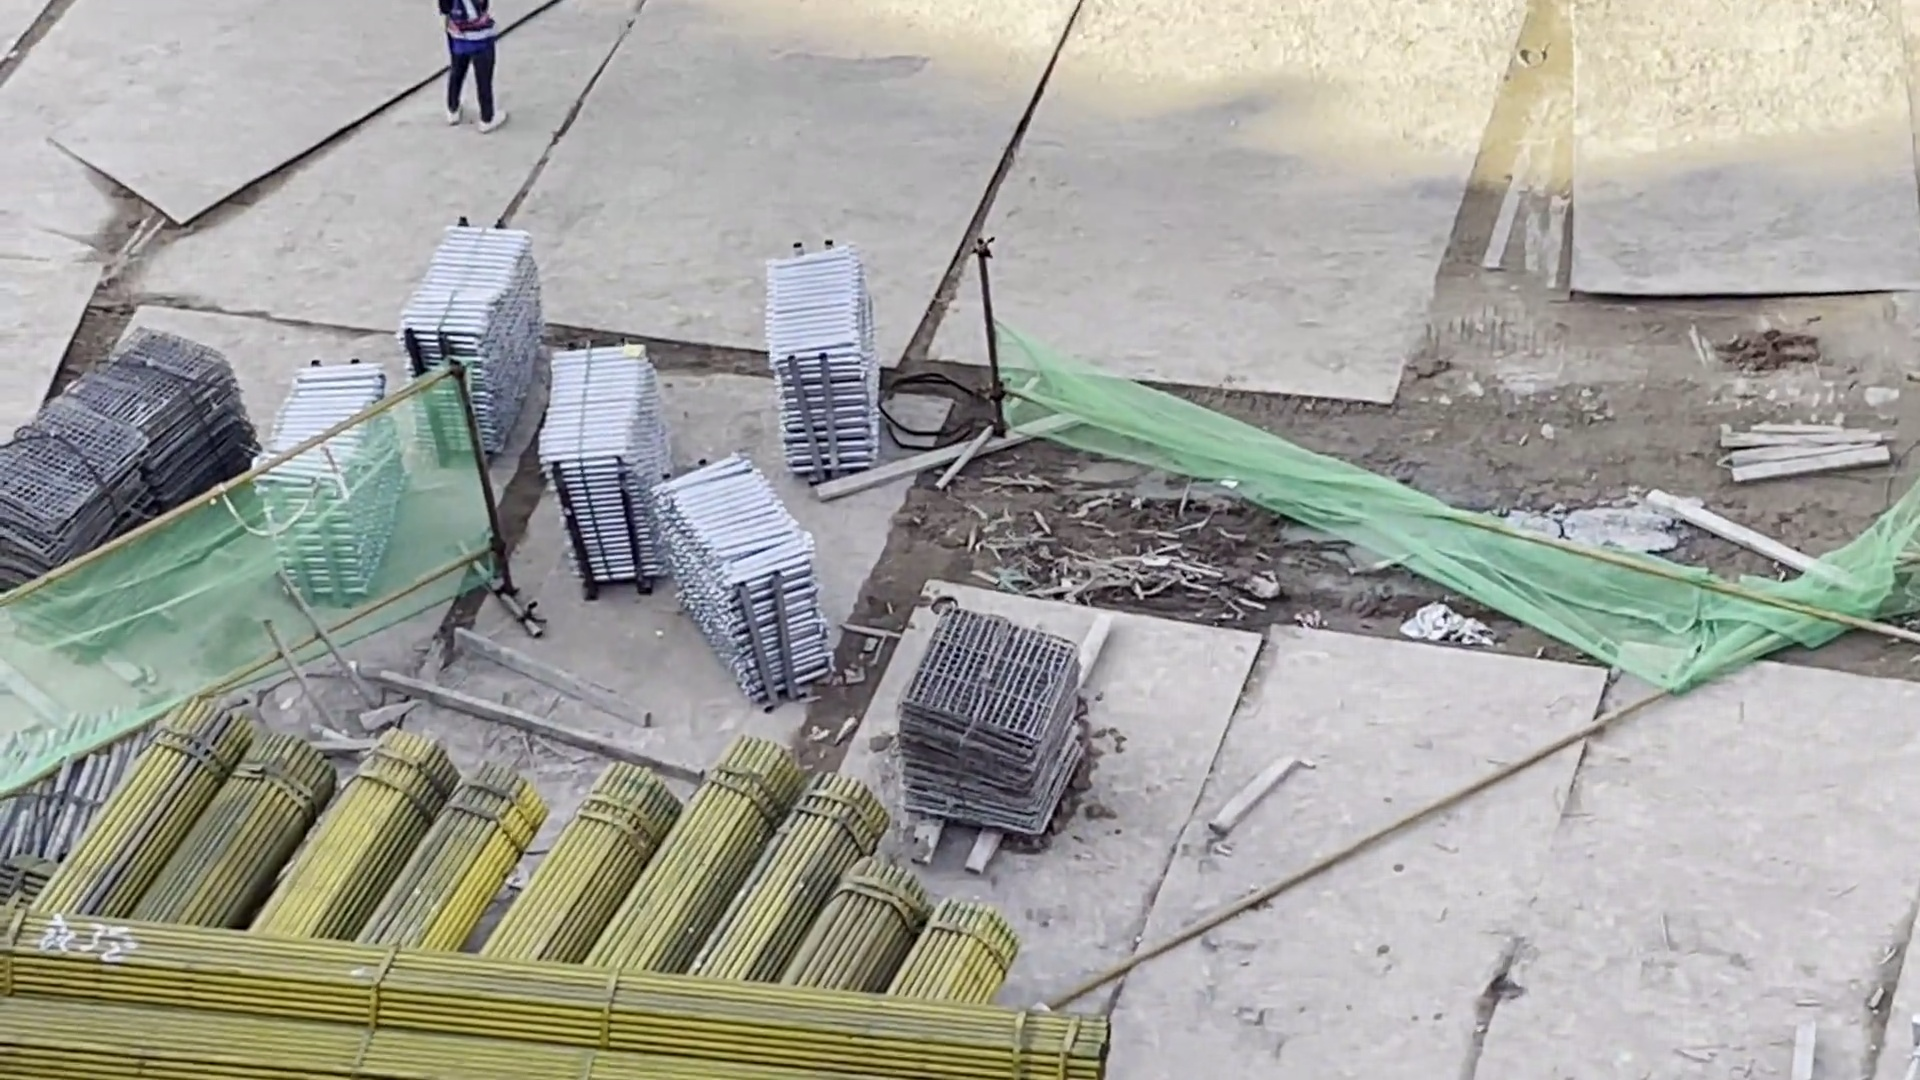person: (440, 1, 529, 156)
scaffold: (661, 462, 829, 690), (538, 343, 682, 608), (750, 224, 895, 483), (247, 365, 386, 604), (409, 208, 530, 457)
vest: (446, 1, 518, 58)
